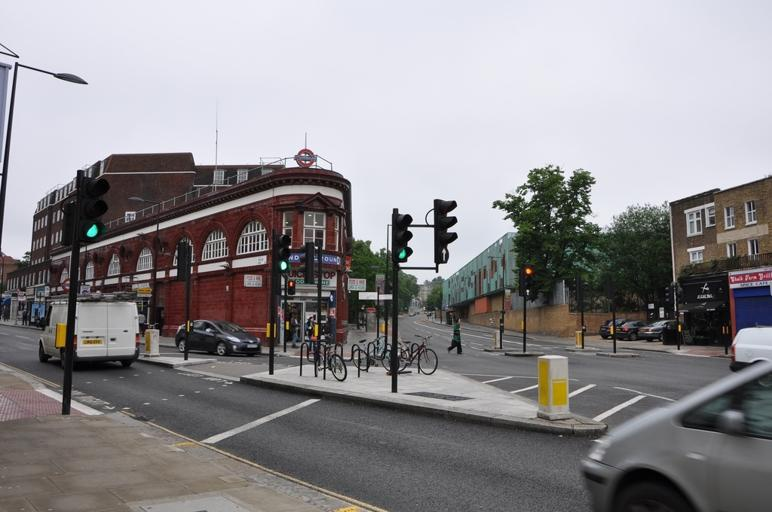non-vehicle: (351, 336, 401, 372), (310, 335, 348, 381), (398, 334, 438, 375)
